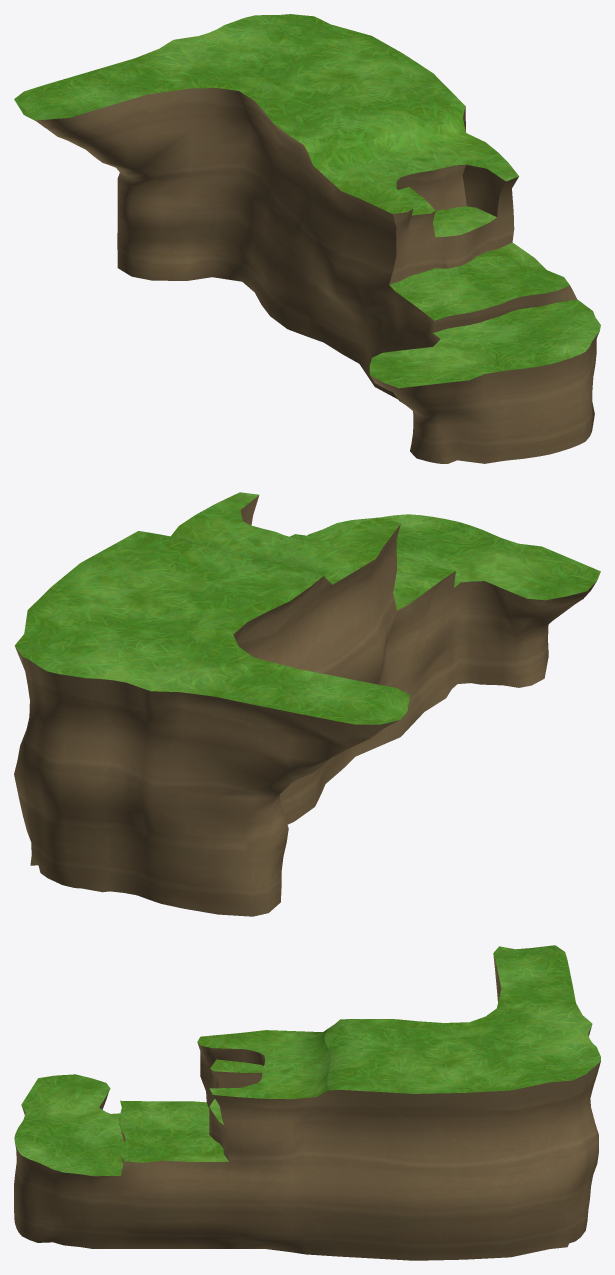
Rendered from lvl1_plat021_02.FBX.
The picture shows the model from 3 angles, top to bottom: view 1: azimuth 30°, elevation 25°; view 2: azimuth 150°, elevation 25°; view 3: azimuth 270°, elevation 25°; orthographic projection. The views are drawn at different scales.
Parts seen in each view (by area): view 1: lvl1_plat_021, plat_21_grass; view 2: lvl1_plat_021, plat_21_grass; view 3: lvl1_plat_021, plat_21_grass.
Part boxes in pixels (left/top/right/bottom): lvl1_plat_021: left=26, top=88, right=599, bottom=463; plat_21_grass: left=14, top=14, right=600, bottom=388; lvl1_plat_021: left=14, top=495, right=596, bottom=916; plat_21_grass: left=14, top=492, right=600, bottom=724; lvl1_plat_021: left=14, top=954, right=600, bottom=1260; plat_21_grass: left=14, top=945, right=600, bottom=1176.
Size of the model in its own units: 2912 by 4761 by 1546.
